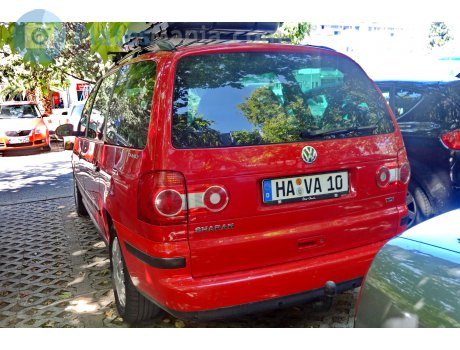License Plates: (268, 176, 345, 195)
